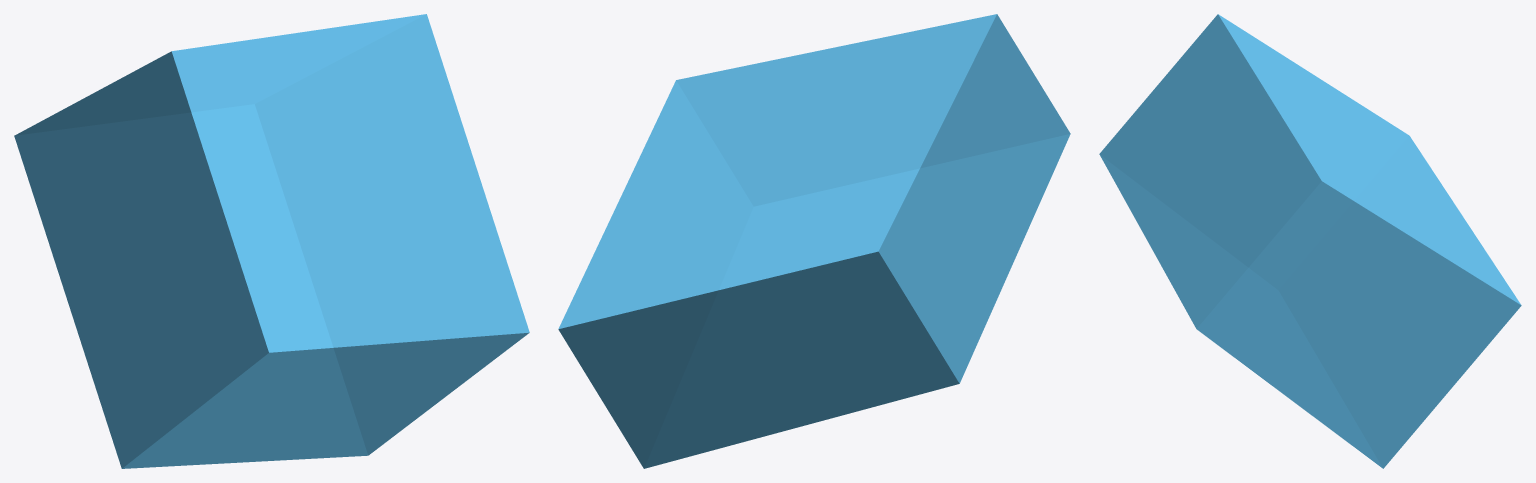
File: Event_421115418_HErechit_111.fbx
3 renders of one model, left to right at view 1: azimuth 30°, elevation 25°; view 2: azimuth 150°, elevation 25°; view 3: azimuth 270°, elevation 25°, orthographic. The views are drawn at different scales.
Visible parts, largest first — view 1: Model; view 2: Model; view 3: Model.
Part boxes in pixels (x1,y1,x2,y2): Model: [14, 14, 529, 468]; Model: [558, 14, 1070, 468]; Model: [1099, 14, 1521, 468].
Size of the model in its own units: 0.6039 by 0.9915 by 1.07.
